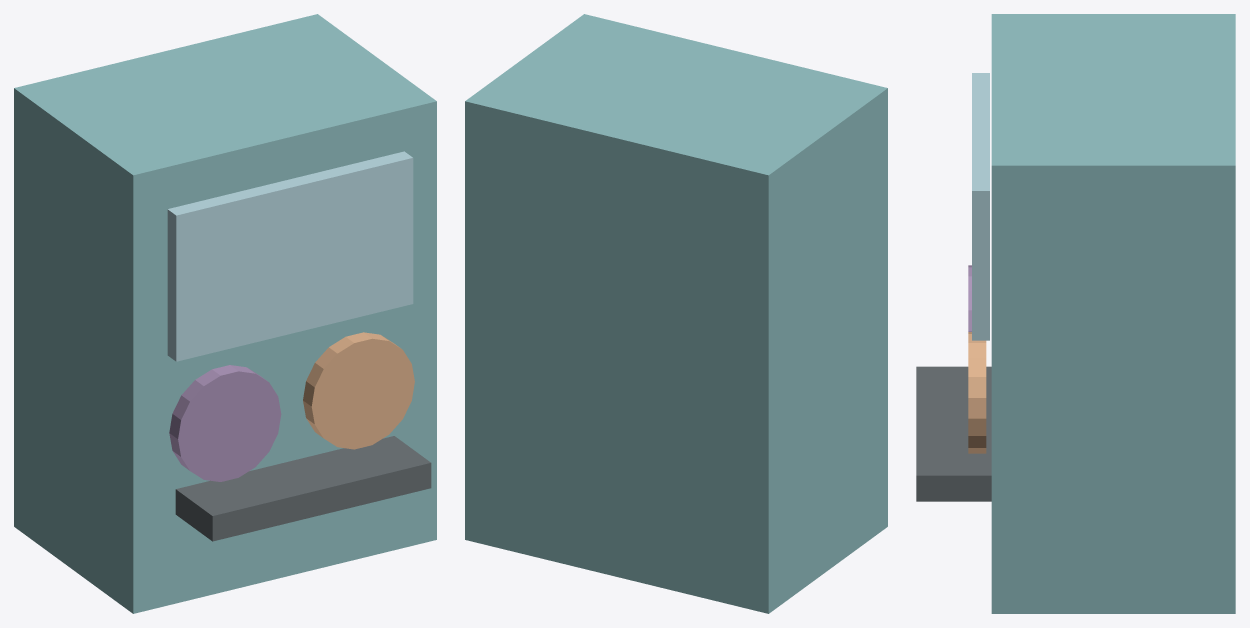
The model's file is retro_dance_console.glb.
3 renders of one model, left to right at view 1: azimuth 30°, elevation 25°; view 2: azimuth 150°, elevation 25°; view 3: azimuth 270°, elevation 25°, orthographic. The views are drawn at different scales.
Parts seen in each view (by area): view 1: part_00, part_01, part_04, part_03, part_02; view 2: part_00; view 3: part_00, part_04, part_01, part_03.
Part boxes in pixels (box(x1,y1,x2,y2)): part_00: box(14, 14, 436, 613); part_01: box(167, 151, 413, 361); part_04: box(175, 436, 431, 541); part_03: box(303, 332, 414, 449); part_02: box(169, 365, 281, 481); part_00: box(465, 14, 887, 613); part_00: box(991, 14, 1235, 613); part_04: box(916, 366, 991, 501); part_01: box(972, 73, 989, 340); part_03: box(968, 332, 986, 453).
Bounding box in the file's own units: 1 × 1.38 × 0.89.
